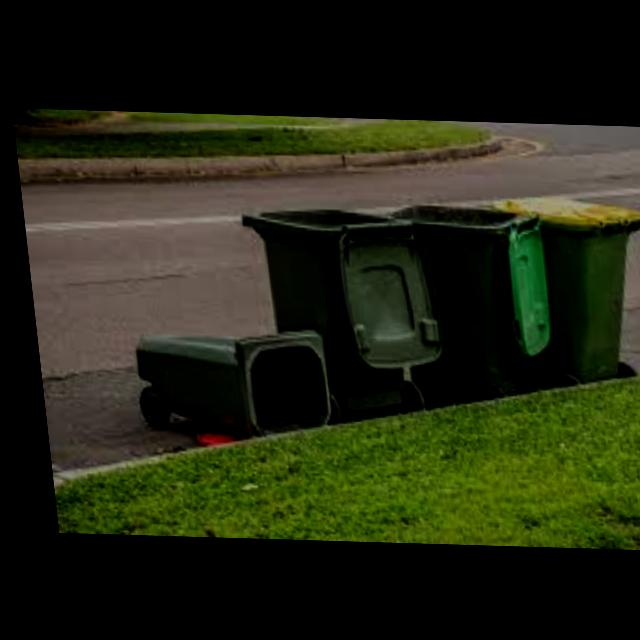Trash_Can_Closed: (493, 191, 640, 379)
Trash_Can_Empty: (235, 203, 425, 409), (387, 199, 542, 396)
